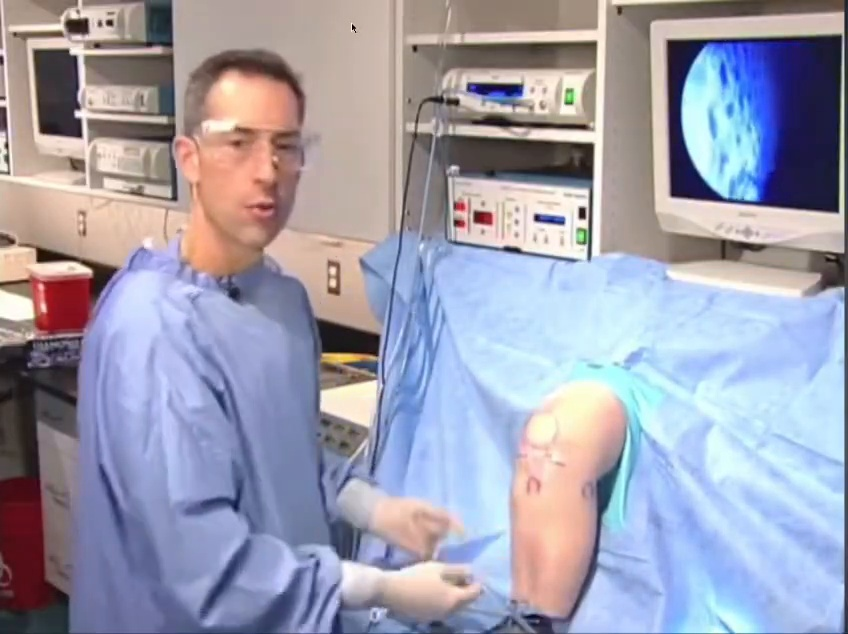probe: (680, 585, 762, 634)
